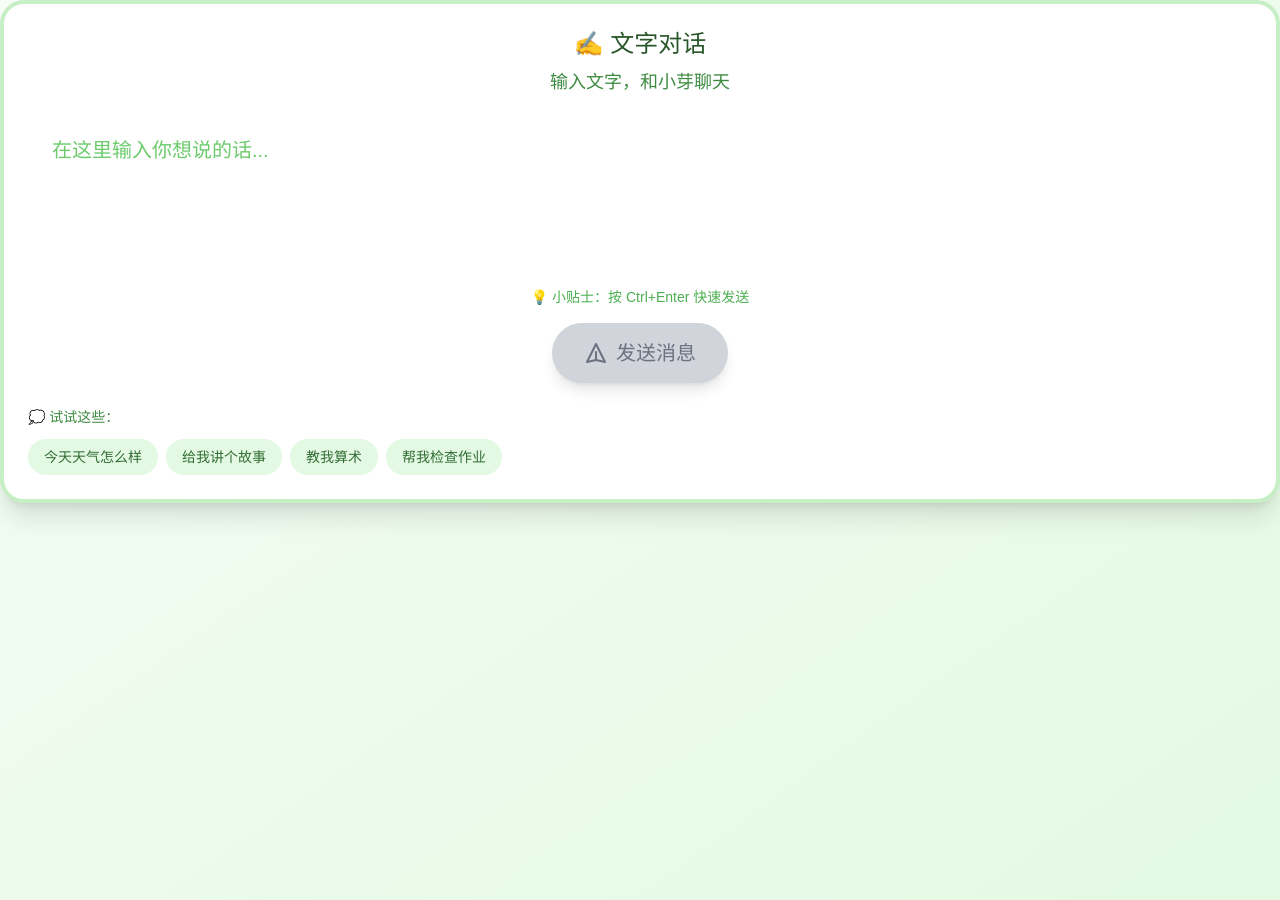
Scenario: TextInteraction Component › 加载状态 › 发送中应该禁用输入框和按钮
In the text box with placeholder "在这里输入你想说的话...": x=640, y=192 [28,120,1252,264], type "测试"
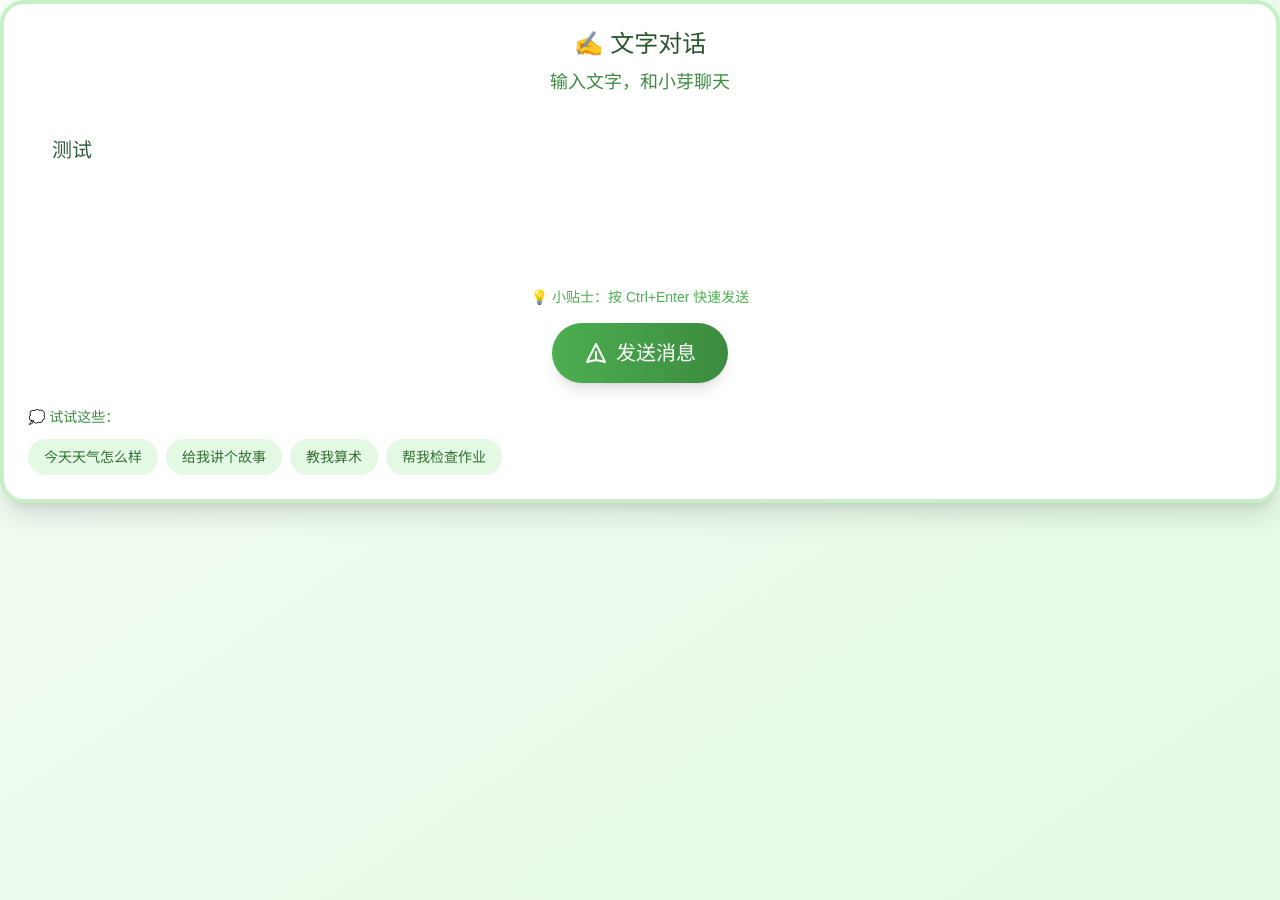
Click the button "发送消息": x=640, y=353 [552,323,728,383]
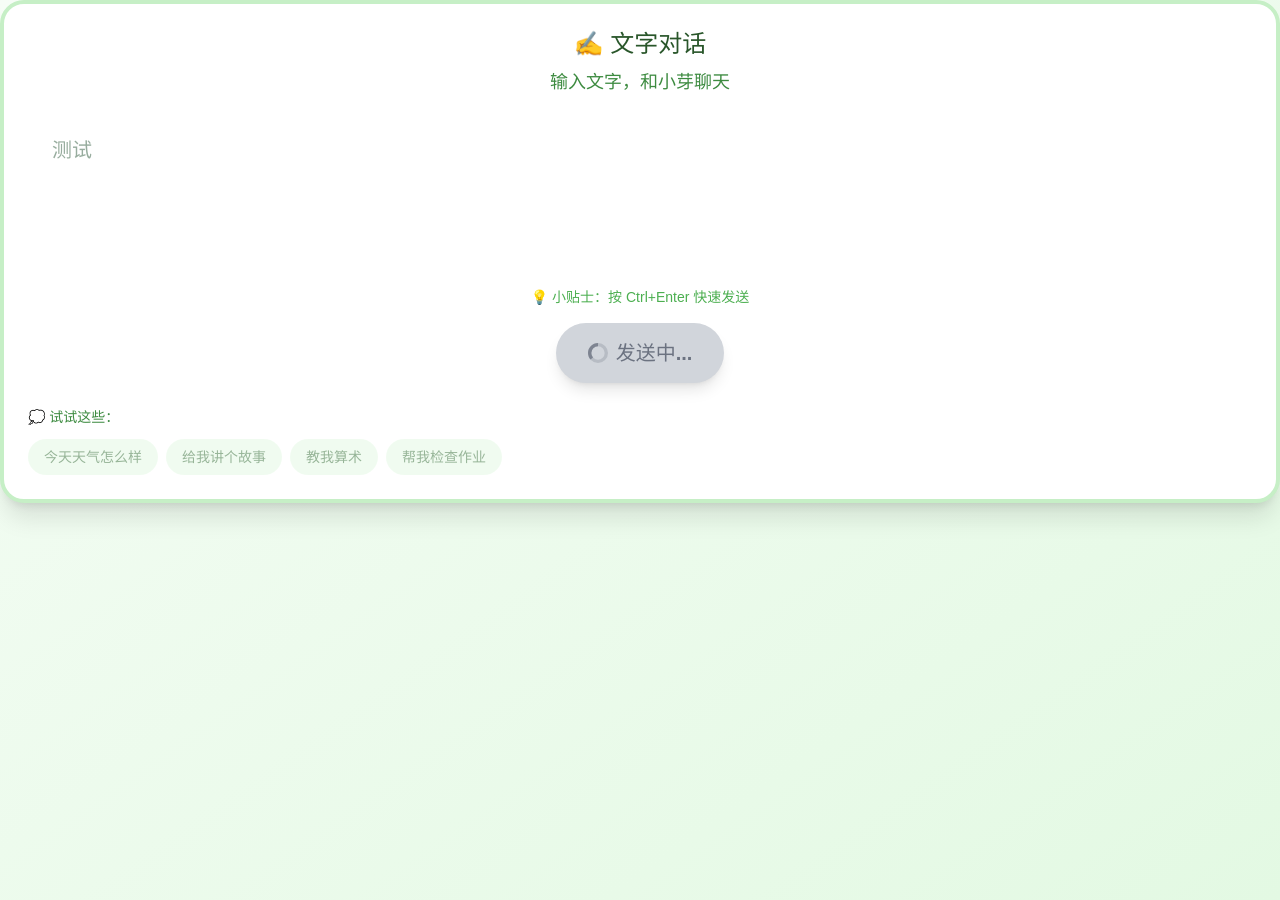
Expected: the text box with placeholder "在这里输入你想说的话..." is disabled, [28,120,1252,264]
Expected: the button named "发送消息" is disabled, [556,323,724,383]
Expected: the text "发送中..." is shown, [588,339,692,367]
